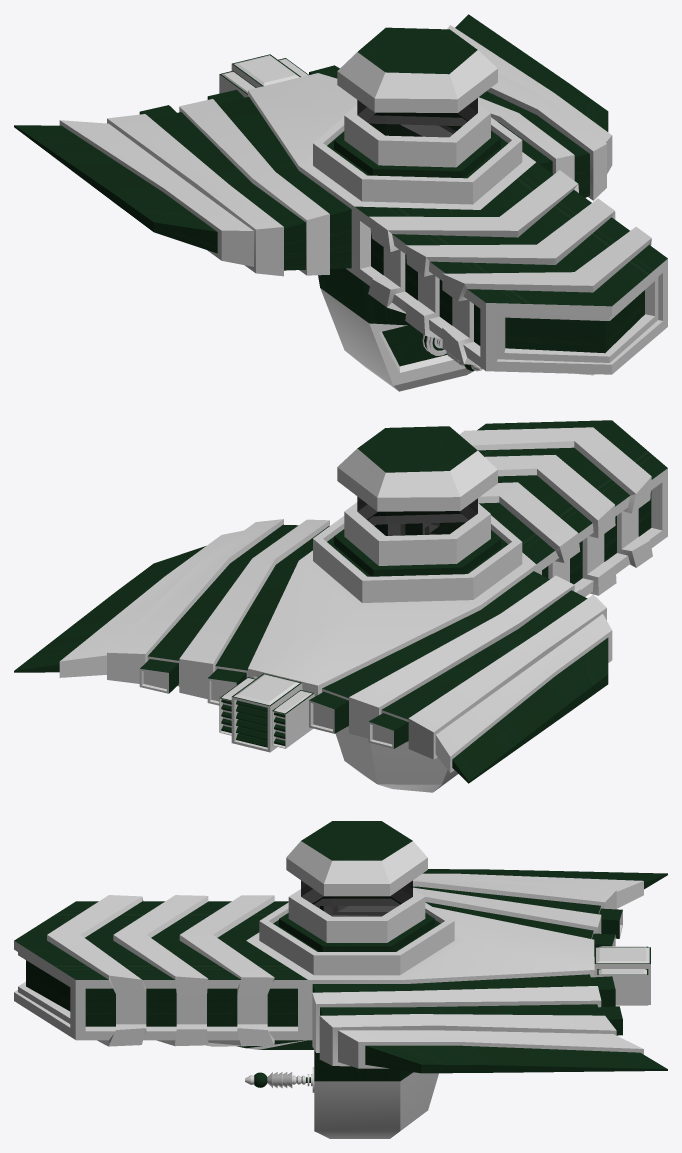
The model's file is DEE.fbx.
3 views of the same model, one above another, from view 1: azimuth 30°, elevation 25°; view 2: azimuth 150°, elevation 25°; view 3: azimuth 270°, elevation 25° (orthographic). The views are drawn at different scales.
Parts seen in each view (by area): view 1: DEE; view 2: DEE; view 3: DEE.
Part boxes in pixels (box(x1,y1,x2,y2)): DEE: box(14, 14, 667, 391); DEE: box(14, 420, 667, 792); DEE: box(14, 821, 667, 1138).
Bounding box in the file's own units: 6.01 × 4.06 × 8.49.
